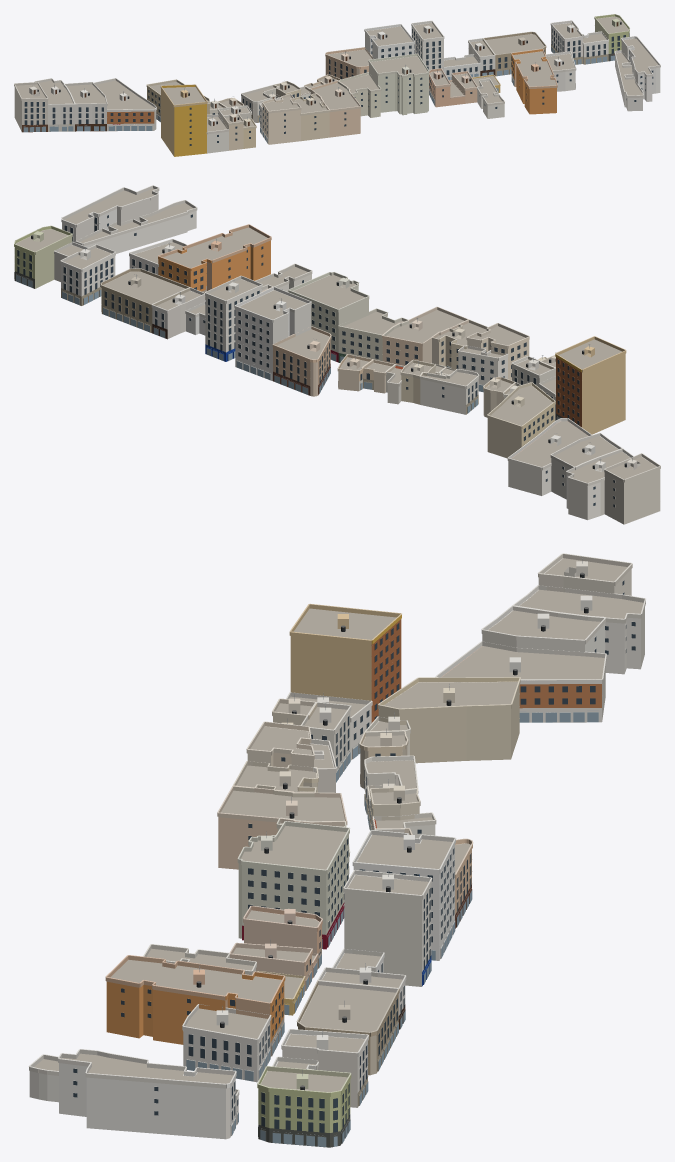
File: CEN01-SOL.glb
3 views of the same model, one above another, from view 1: azimuth 30°, elevation 25°; view 2: azimuth 150°, elevation 25°; view 3: azimuth 270°, elevation 25° (orthographic). The views are drawn at different scales.
Parts seen in each view (by area): view 1: C-8646203TF8084N__LOD0, C-8746107TF8084N__LOD0, C-8846121TF8084N__LOD0, B-w877664489__LOD0, C-8746105TF8084N__LOD0, C-8746112TF8084N__LOD0, B-w877664488__LOD0, B-r19148123__LOD0, C-8846109TF8084N__LOD0, B-w877660169__LOD0, B-w877673062__LOD0, B-w1086864320__LOD0 (+22 smaller); view 2: C-8646203TF8084N__LOD0, C-8846121TF8084N__LOD0, B-w877660169__LOD0, B-w877664496__LOD0, B-w877673062__LOD0, B-r19148123__LOD0, C-8746107TF8084N__LOD0, B-w877660170__LOD0, C-8846113TF8084N__LOD0, B-w877664489__LOD0, C-8846109TF8084N__LOD0, B-w877673065__LOD0 (+20 smaller); view 3: C-8846109TF8084N__LOD0, C-8846121TF8084N__LOD0, B-w877664496__LOD0, C-8646203TF8084N__LOD0, C-8746107TF8084N__LOD0, B-w877673065__LOD0, B-w877664489__LOD0, B-w877673071__LOD0, B-w877660169__LOD0, C-8746105TF8084N__LOD0, B-w1086864320__LOD0, C-8846107TF8084N__LOD0 (+20 smaller).
Part boxes in pixels (left/top/right/bottom): C-8646203TF8084N__LOD0: left=160, top=84, right=207, bottom=156; C-8746107TF8084N__LOD0: left=368, top=53, right=429, bottom=115; C-8846121TF8084N__LOD0: left=511, top=48, right=557, bottom=114; B-w877664489__LOD0: left=94, top=78, right=156, bottom=131; C-8746105TF8084N__LOD0: left=310, top=80, right=361, bottom=137; C-8746112TF8084N__LOD0: left=262, top=93, right=301, bottom=144; B-w877664488__LOD0: left=63, top=82, right=107, bottom=131; B-r19148123__LOD0: left=14, top=82, right=48, bottom=132; C-8846109TF8084N__LOD0: left=621, top=36, right=660, bottom=101; B-w877660169__LOD0: left=364, top=24, right=415, bottom=59; B-w877673062__LOD0: left=482, top=31, right=546, bottom=76; B-w1086864320__LOD0: left=34, top=78, right=75, bottom=131; C-8646203TF8084N__LOD0: left=555, top=336, right=626, bottom=434; C-8846121TF8084N__LOD0: left=158, top=224, right=271, bottom=299; B-w877660169__LOD0: left=234, top=286, right=311, bottom=380; B-w877664496__LOD0: left=487, top=382, right=555, bottom=458; B-w877673062__LOD0: left=100, top=268, right=190, bottom=332; B-r19148123__LOD0: left=604, top=453, right=660, bottom=524; C-8746107TF8084N__LOD0: left=288, top=272, right=369, bottom=362; B-w877660170__LOD0: left=272, top=326, right=331, bottom=396; C-8846113TF8084N__LOD0: left=75, top=200, right=197, bottom=253; B-w877664489__LOD0: left=507, top=418, right=591, bottom=495; C-8846109TF8084N__LOD0: left=61, top=185, right=159, bottom=242; B-w877673065__LOD0: left=204, top=275, right=262, bottom=361; C-8846109TF8084N__LOD0: left=58, top=1049, right=236, bottom=1139; C-8846121TF8084N__LOD0: left=105, top=955, right=285, bottom=1056; B-w877664496__LOD0: left=378, top=677, right=520, bottom=763; C-8646203TF8084N__LOD0: left=289, top=603, right=401, bottom=722; C-8746107TF8084N__LOD0: left=237, top=821, right=350, bottom=949; B-w877673065__LOD0: left=343, top=870, right=432, bottom=986; B-w877664489__LOD0: left=435, top=641, right=606, bottom=722; B-w877673071__LOD0: left=257, top=1066, right=351, bottom=1147; B-w877660169__LOD0: left=352, top=830, right=455, bottom=960; C-8746105TF8084N__LOD0: left=217, top=785, right=347, bottom=869; B-w1086864320__LOD0: left=512, top=585, right=645, bottom=674; C-8846107TF8084N__LOD0: left=182, top=1004, right=271, bottom=1082.
Size of what is drawn, in the model's own units: 279 by 28.8 by 138.
2 materials, 2 textured.
